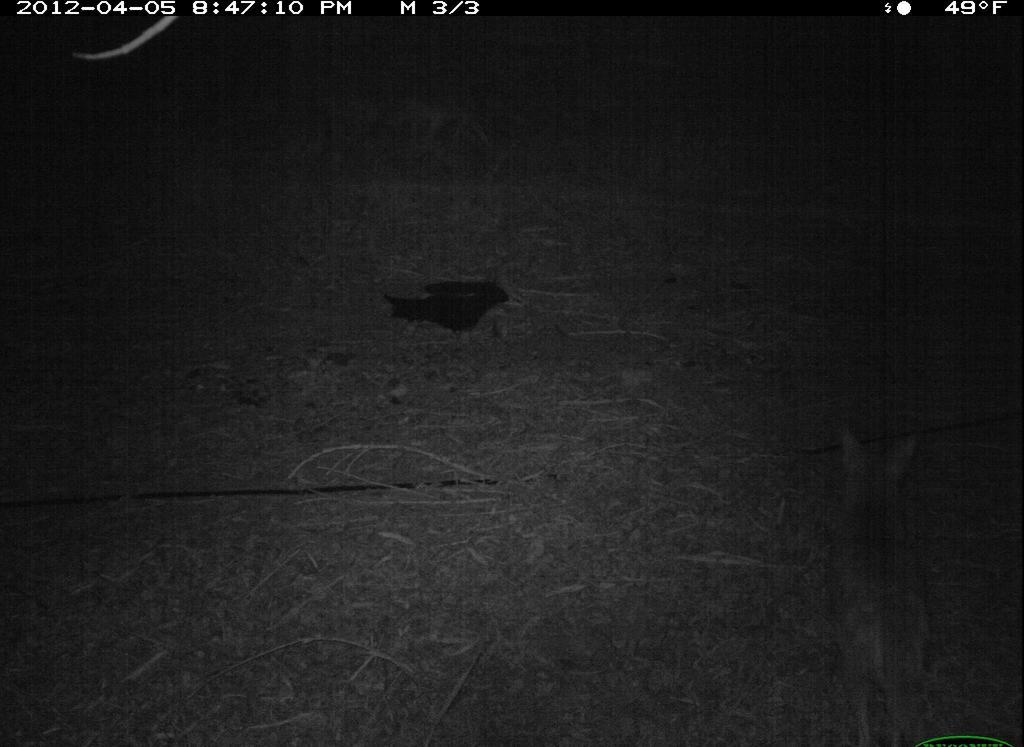coyote: (824, 424, 945, 743)
